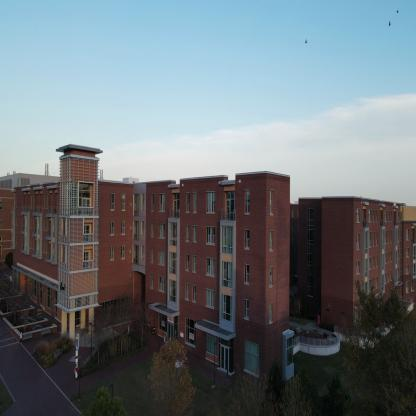Wolf Ridge: (12, 146, 286, 380), (297, 190, 415, 340)
